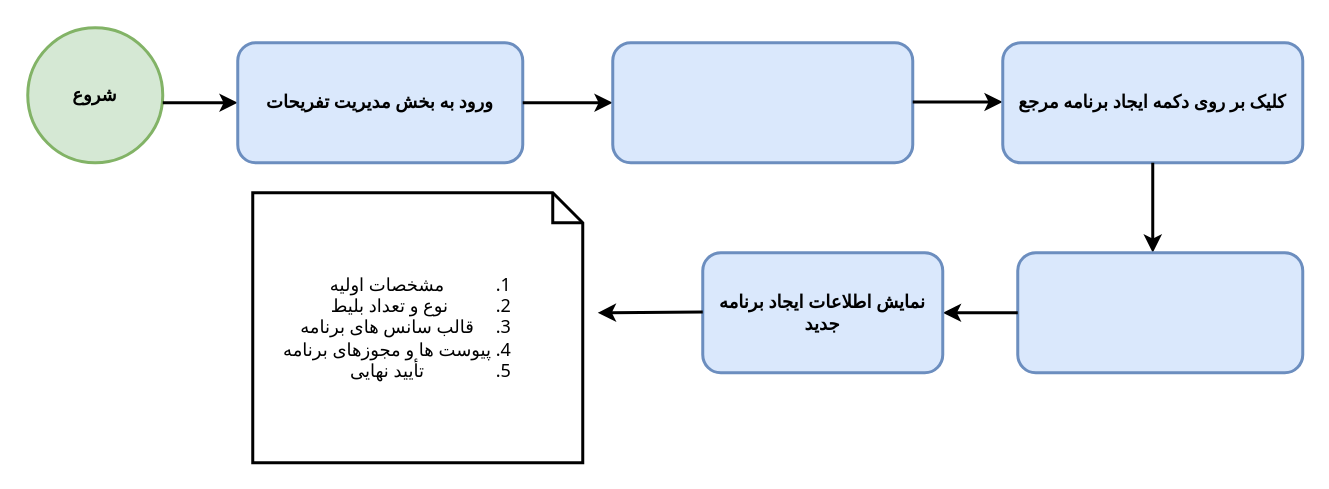
Some shapes in this 1329 by 489 pixel diagram are drawn without their labels. Each missing label, with the box of its shape:
انتخاب مدیریت برنامه مرجع: (610, 40, 914, 164)
ورود به صفحه ایجاد برنامه مرجع: (1016, 250, 1304, 374)
